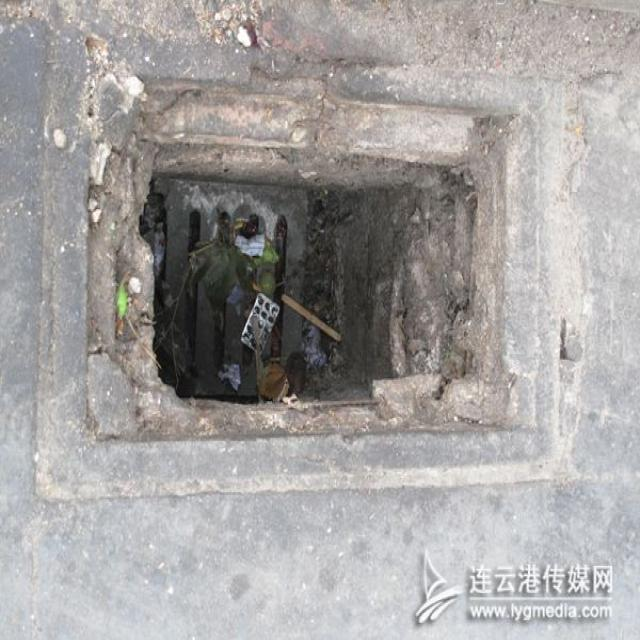manhole-cover: (78, 91, 518, 468)
